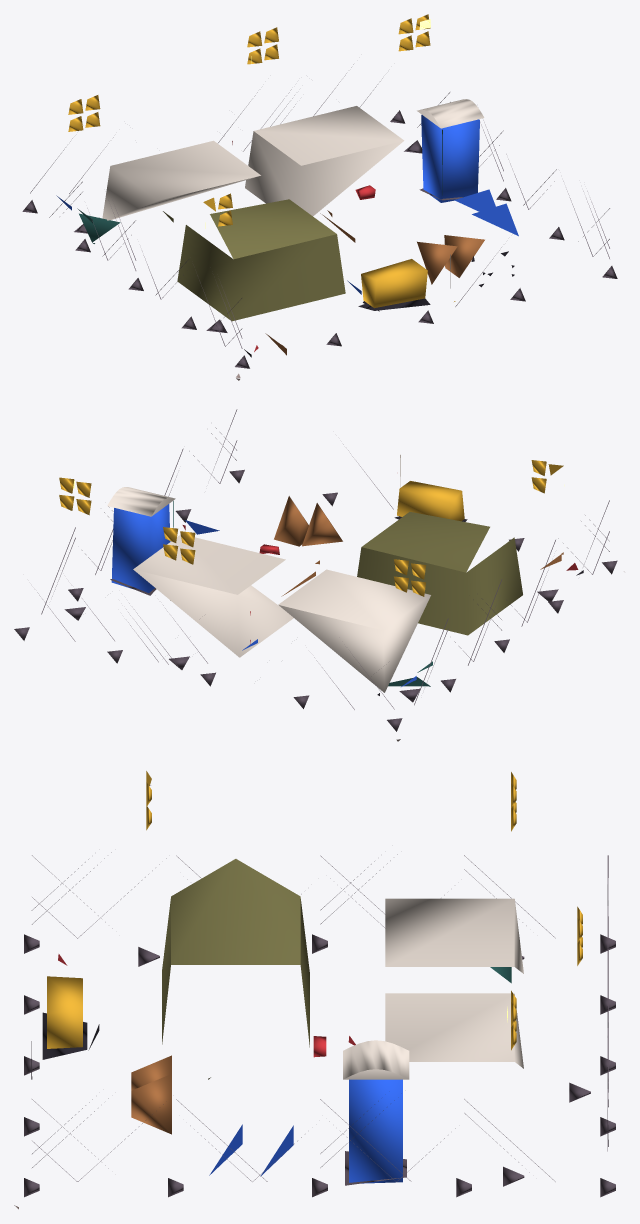
The picture shows the model from 3 angles, top to bottom: view 1: azimuth 30°, elevation 25°; view 2: azimuth 150°, elevation 25°; view 3: azimuth 270°, elevation 25°; orthographic projection. The views are drawn at different scales.
Bounding box in the file's own units: 12 × 4.16 × 12.
